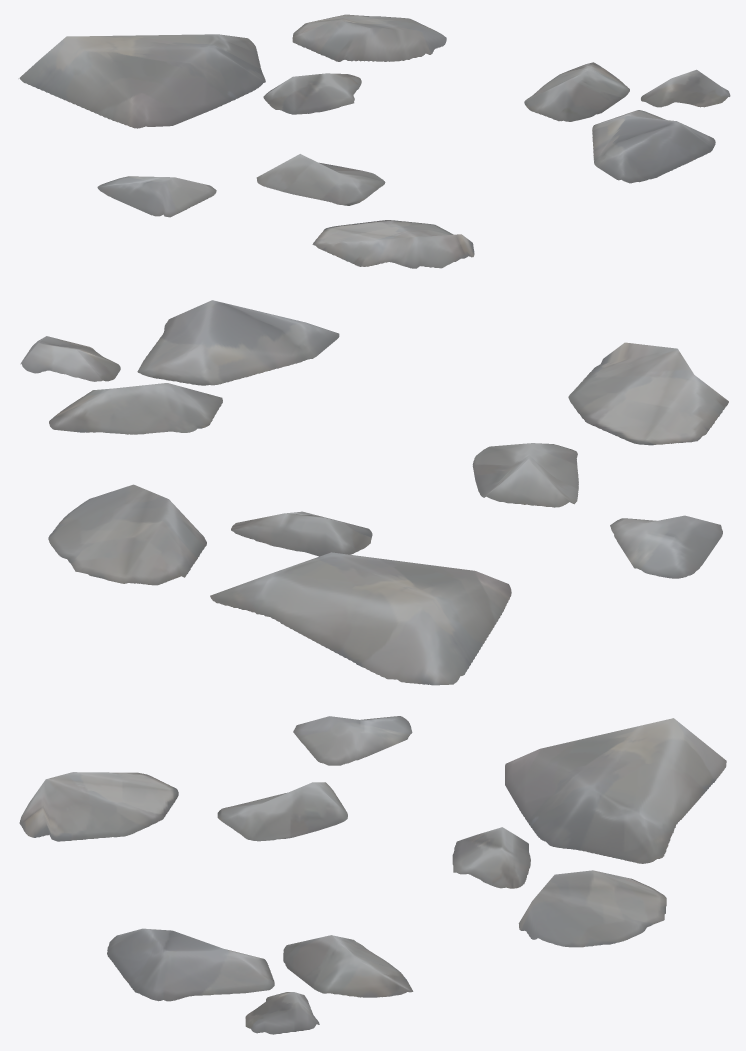
Rendered from SM_PebblesGroup_04.fbx.
The picture shows the model from 3 angles, top to bottom: view 1: azimuth 30°, elevation 25°; view 2: azimuth 150°, elevation 25°; view 3: azimuth 270°, elevation 25°; orthographic projection. The views are drawn at different scales.
Parts seen in each view (by area): view 1: SM_PebblesGroup_04_LOD0; view 2: SM_PebblesGroup_04_LOD0; view 3: SM_PebblesGroup_04_LOD0.
Boxes of the visible parts, bbox=[...] form: SM_PebblesGroup_04_LOD0: bbox=[18, 14, 730, 268]; SM_PebblesGroup_04_LOD0: bbox=[20, 300, 728, 685]; SM_PebblesGroup_04_LOD0: bbox=[19, 716, 726, 1034].
Size of the model in its own units: 123 by 8.92 by 116.
